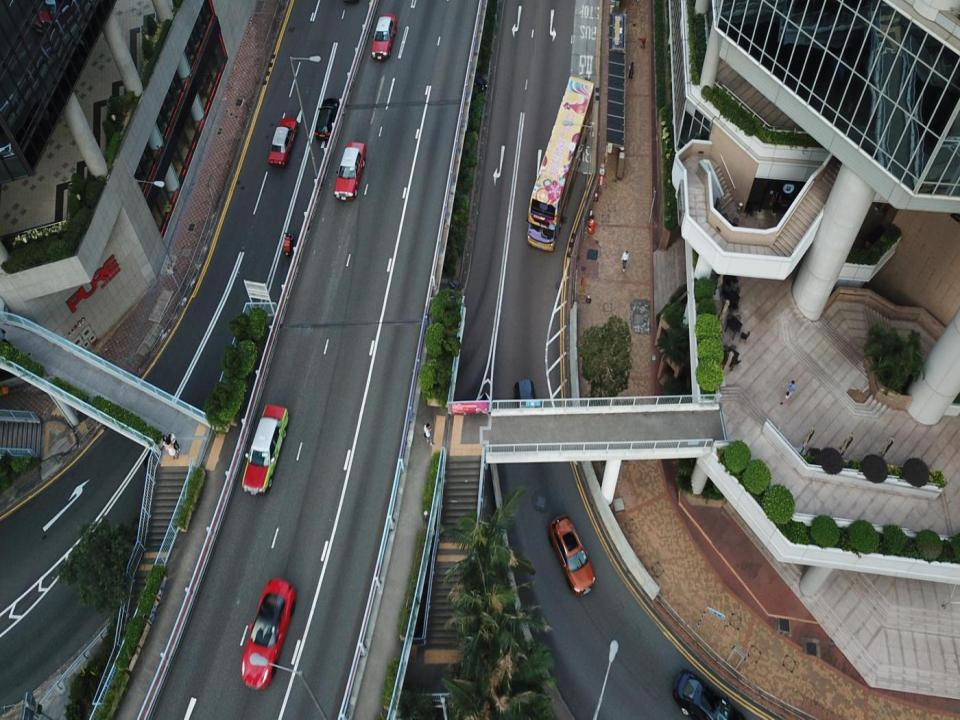bus: (526, 73, 594, 254)
car: (239, 577, 295, 691), (242, 403, 288, 493), (548, 514, 595, 592), (674, 669, 745, 719), (333, 139, 366, 201), (514, 379, 538, 435), (269, 117, 295, 166), (371, 13, 396, 60), (314, 97, 339, 139)
